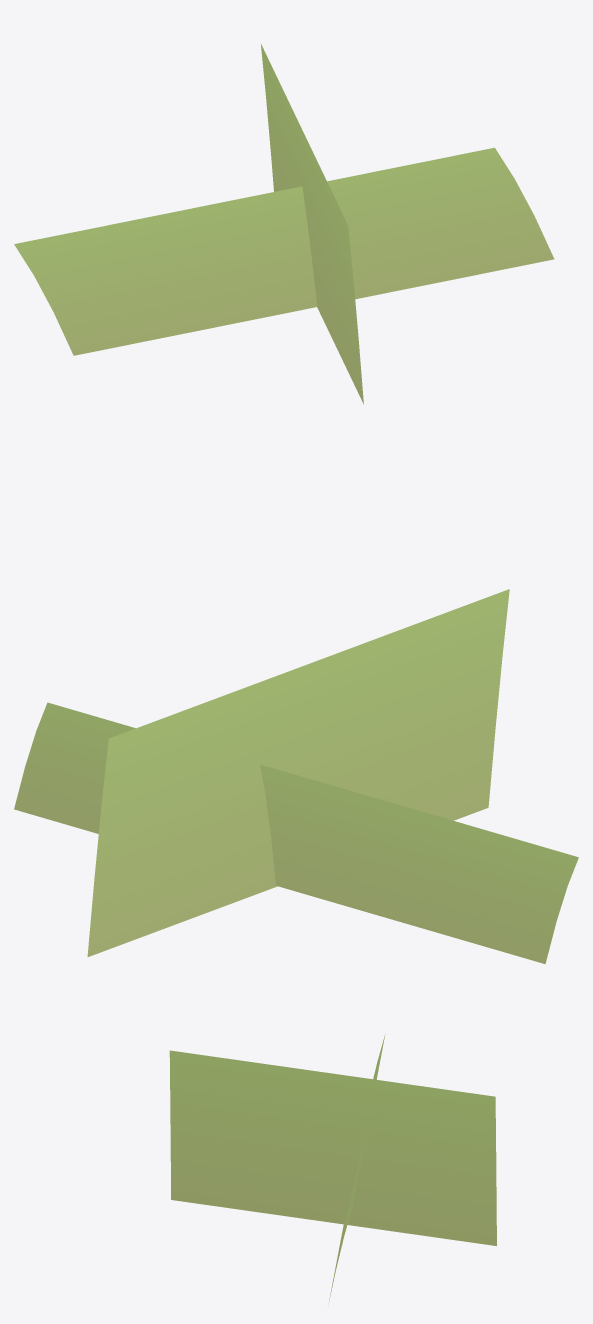
The model's file is grass_a.glb.
3 views of the same model, one above another, from view 1: azimuth 30°, elevation 25°; view 2: azimuth 150°, elevation 25°; view 3: azimuth 270°, elevation 25° (orthographic). The views are drawn at different scales.
Parts seen in each view (by area): view 1: LOD0; view 2: LOD0; view 3: LOD0.
Boxes of the visible parts, box(x1,y1,x2,y2) form: LOD0: box(14, 43, 554, 404); LOD0: box(14, 589, 578, 964); LOD0: box(169, 1034, 496, 1303).
Bounding box in the file's own units: 1.21 × 0.4231 × 1.51.
